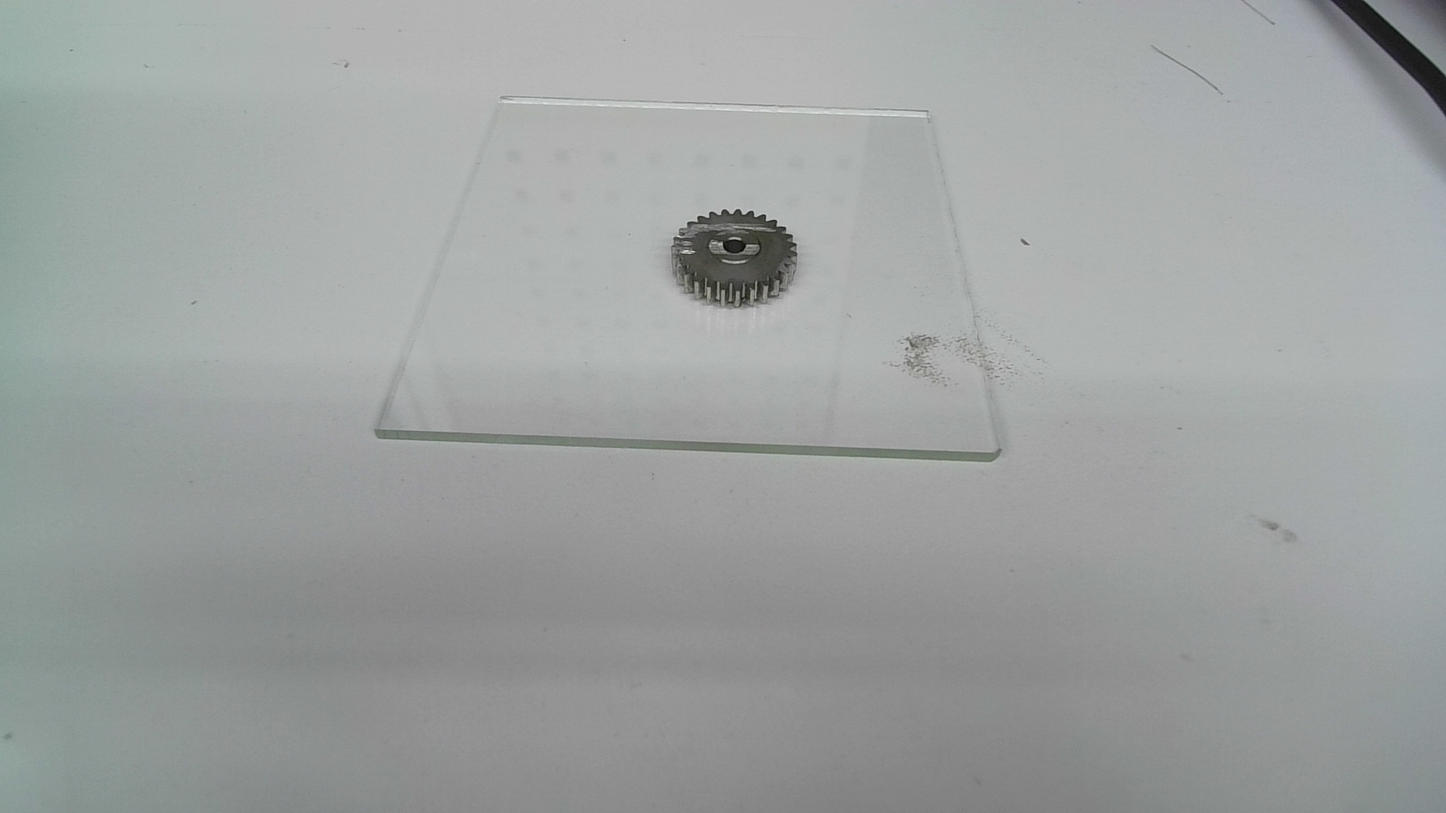gear: (667, 208, 800, 313)
